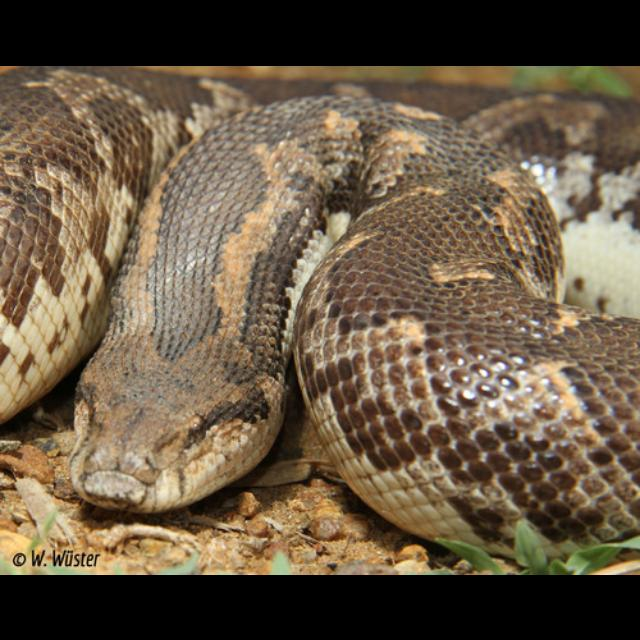snake: (0, 66, 640, 574)
